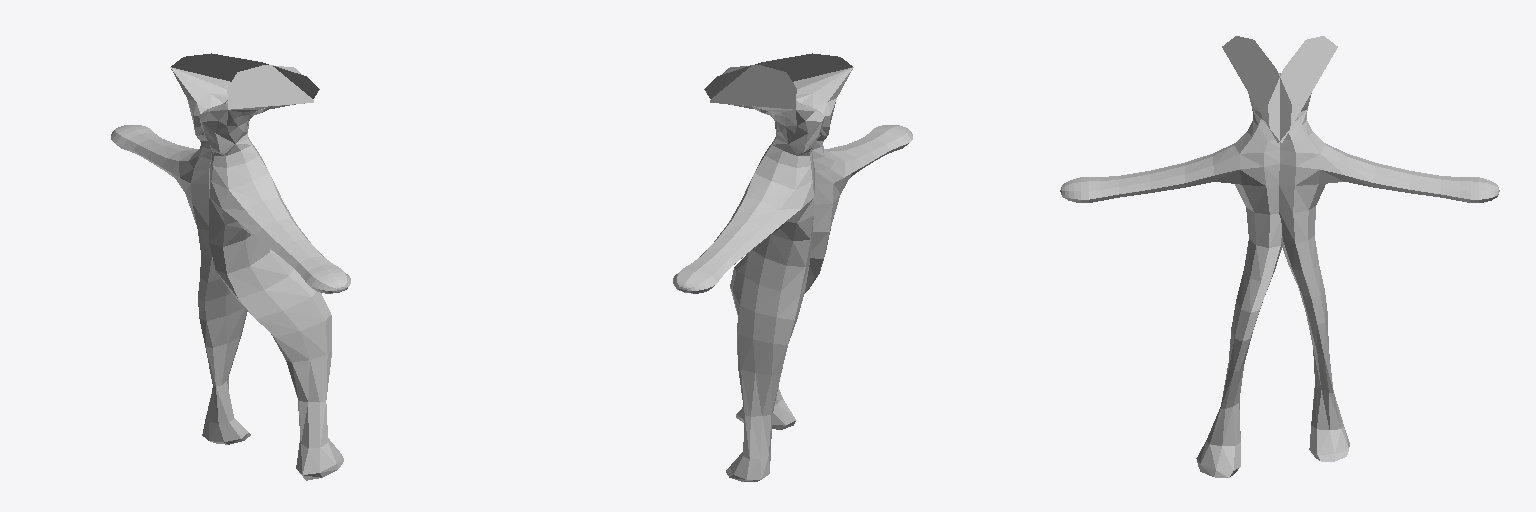
Rendered from cowboy_000009.obj.
3 renders of one model, left to right at view 1: azimuth 30°, elevation 25°; view 2: azimuth 150°, elevation 25°; view 3: azimuth 270°, elevation 25°, orthographic.
Visible parts, largest first — view 1: Cube; view 2: Cube; view 3: Cube.
Boxes of the visible parts, <box> form: Cube: <box>111,53,350,480</box>; Cube: <box>673,53,912,481</box>; Cube: <box>1060,36,1499,477</box>.
Size of the model in its own units: 4.41 by 14.46 by 14.33.